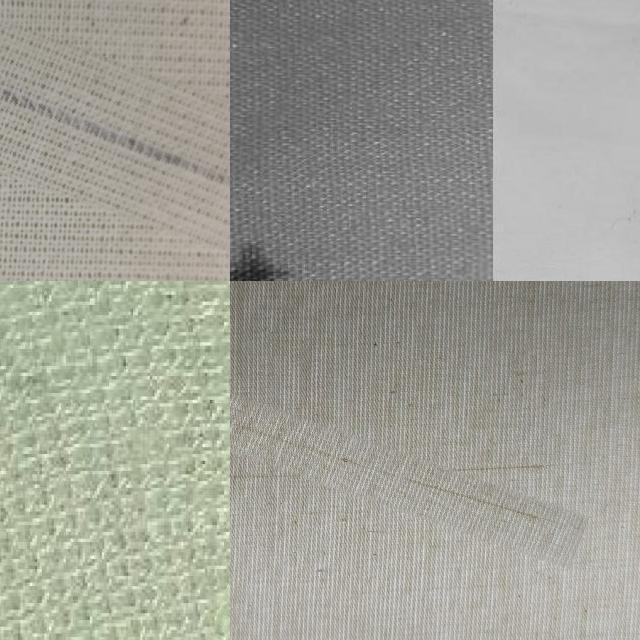Hole: (230, 228, 319, 281)
Thread_other: (230, 415, 591, 538)
